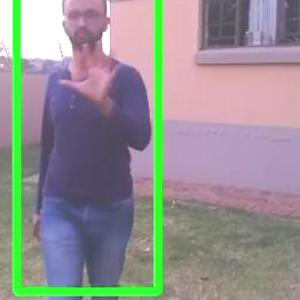follow_hand: (58, 37, 126, 103)
